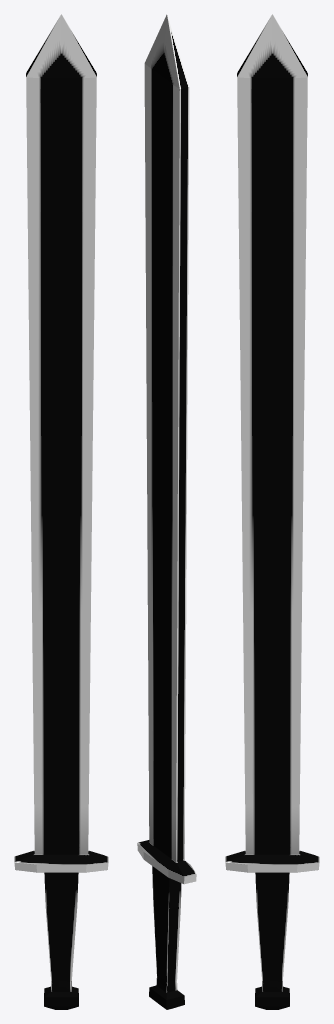
The model's file is sword.glb.
The picture shows the model from 3 angles, left to right: view 1: azimuth 90°, elevation 25°; view 2: azimuth 210°, elevation 25°; view 3: azimuth 270°, elevation 25°; orthographic projection.
Visible parts, largest first — view 1: Cube; view 2: Cube; view 3: Cube.
Boxes of the visible parts, left/top/right/bottom form: Cube: left=14, top=14, right=108, bottom=1009; Cube: left=137, top=14, right=196, bottom=1009; Cube: left=225, top=14, right=319, bottom=1009.
Size of the model in its own units: 0.0702 by 3.01 by 0.2583.
Materials: 1 (1 with a texture image).
